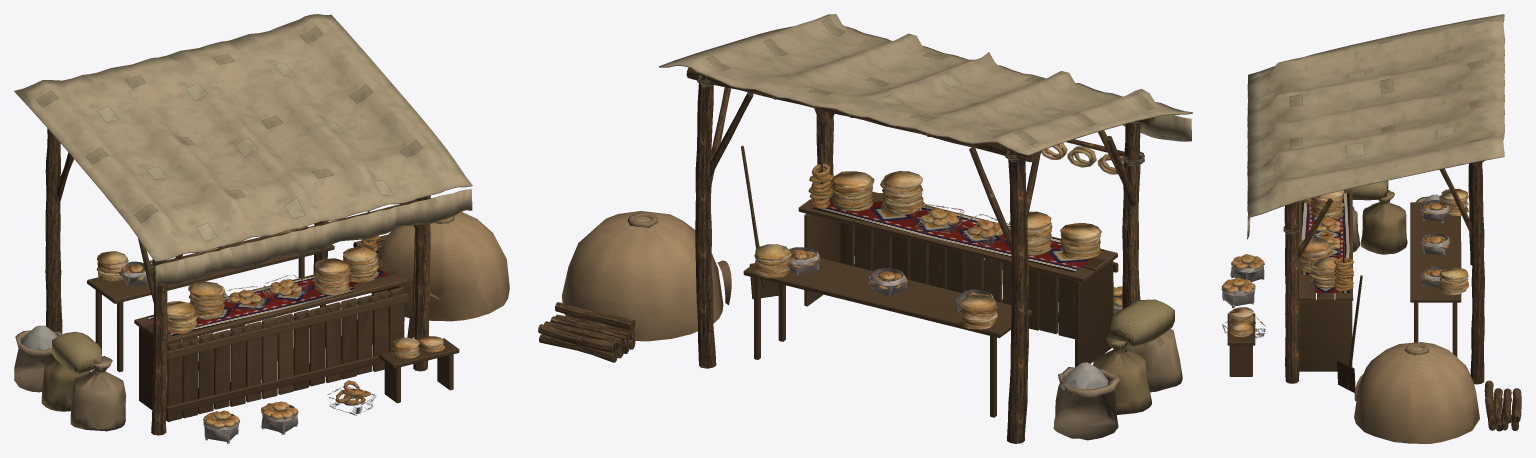
The model's file is village-kiosk-2-v2-lite.glb.
The picture shows the model from 3 angles, left to right: view 1: azimuth 30°, elevation 25°; view 2: azimuth 150°, elevation 25°; view 3: azimuth 270°, elevation 25°; orthographic projection. The views are drawn at different scales.
Parts seen in each view (by area): view 1: K2_Cloth, K2_Wood, K2_Props, K2_Sack; view 2: K2_Wood, K2_Cloth, K2_Props, K2_Sack; view 3: K2_Cloth, K2_Props, K2_Wood, K2_Sack.
Boxes of the visible parts, bbox=[...] form: K2_Cloth: bbox=[14, 14, 472, 285]; K2_Wood: bbox=[45, 128, 459, 435]; K2_Props: bbox=[20, 195, 509, 443]; K2_Sack: bbox=[14, 330, 126, 431]; K2_Wood: bbox=[538, 67, 1154, 443]; K2_Cloth: bbox=[659, 14, 1192, 155]; K2_Props: bbox=[562, 74, 1144, 394]; K2_Sack: bbox=[1053, 299, 1182, 440]; K2_Cloth: bbox=[1247, 14, 1504, 239]; K2_Props: bbox=[1221, 160, 1485, 443]; K2_Wood: bbox=[1227, 161, 1521, 431]; K2_Sack: bbox=[1344, 180, 1428, 254].
Bounding box in the file's own units: 5.39 × 2.9 × 3.25.
Materials: 5 (5 with a texture image).
